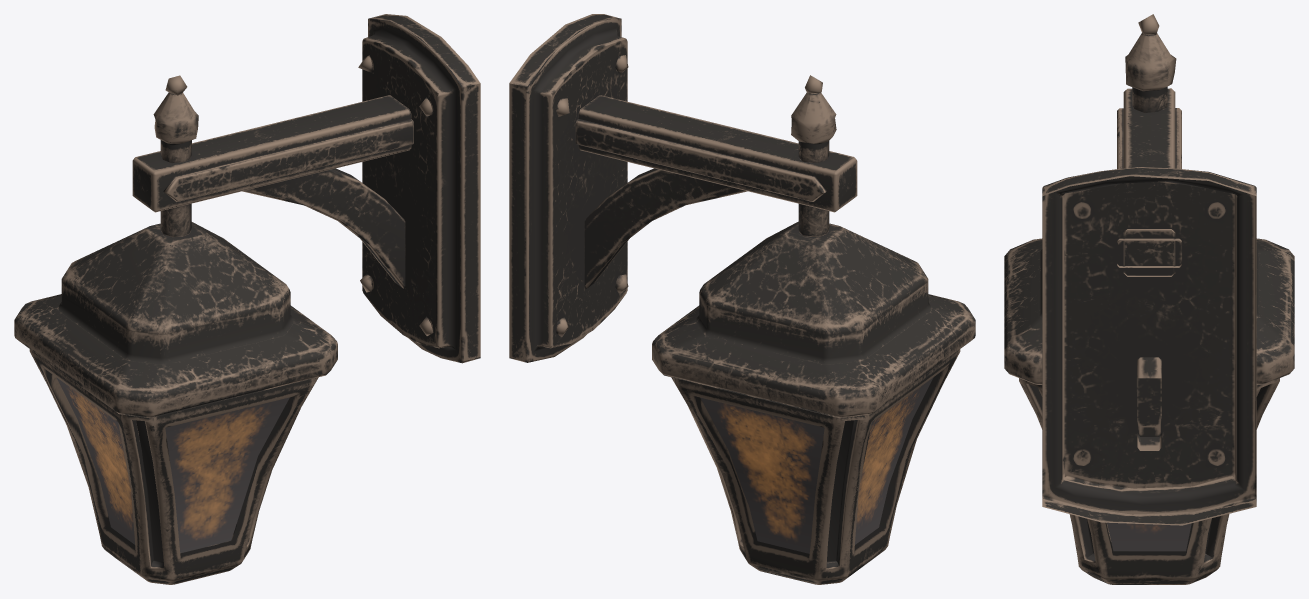
The model's file is SM_light_01.fbx.
3 renders of one model, left to right at view 1: azimuth 30°, elevation 25°; view 2: azimuth 150°, elevation 25°; view 3: azimuth 270°, elevation 25°, orthographic. The views are drawn at different scales.
Visible parts, largest first — view 1: SM_light_01_LOD0; view 2: SM_light_01_LOD0; view 3: SM_light_01_LOD0.
Part boxes in pixels (box(x1,y1,x2,y2)): SM_light_01_LOD0: box(14, 14, 480, 584); SM_light_01_LOD0: box(509, 14, 975, 584); SM_light_01_LOD0: box(1004, 14, 1294, 584).
Bounding box in the file's own units: 72.8 × 43.94 × 91.44.
